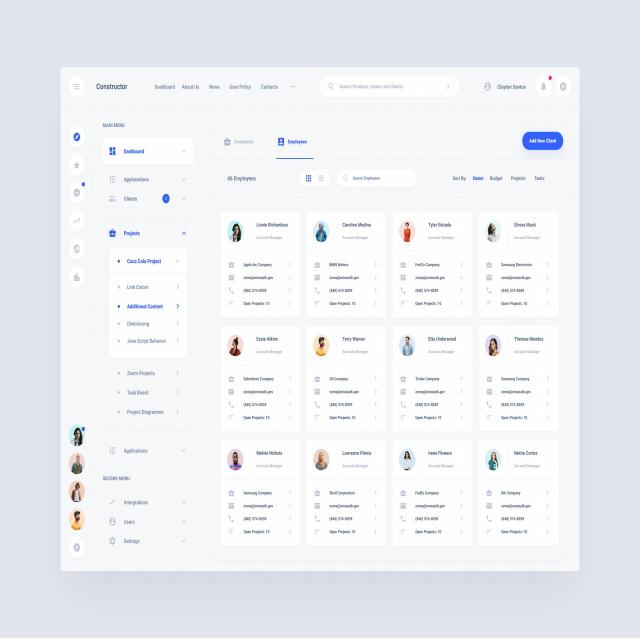button: (522, 131, 564, 151)
input: (320, 75, 460, 100), (337, 169, 417, 187), (70, 536, 86, 560)
